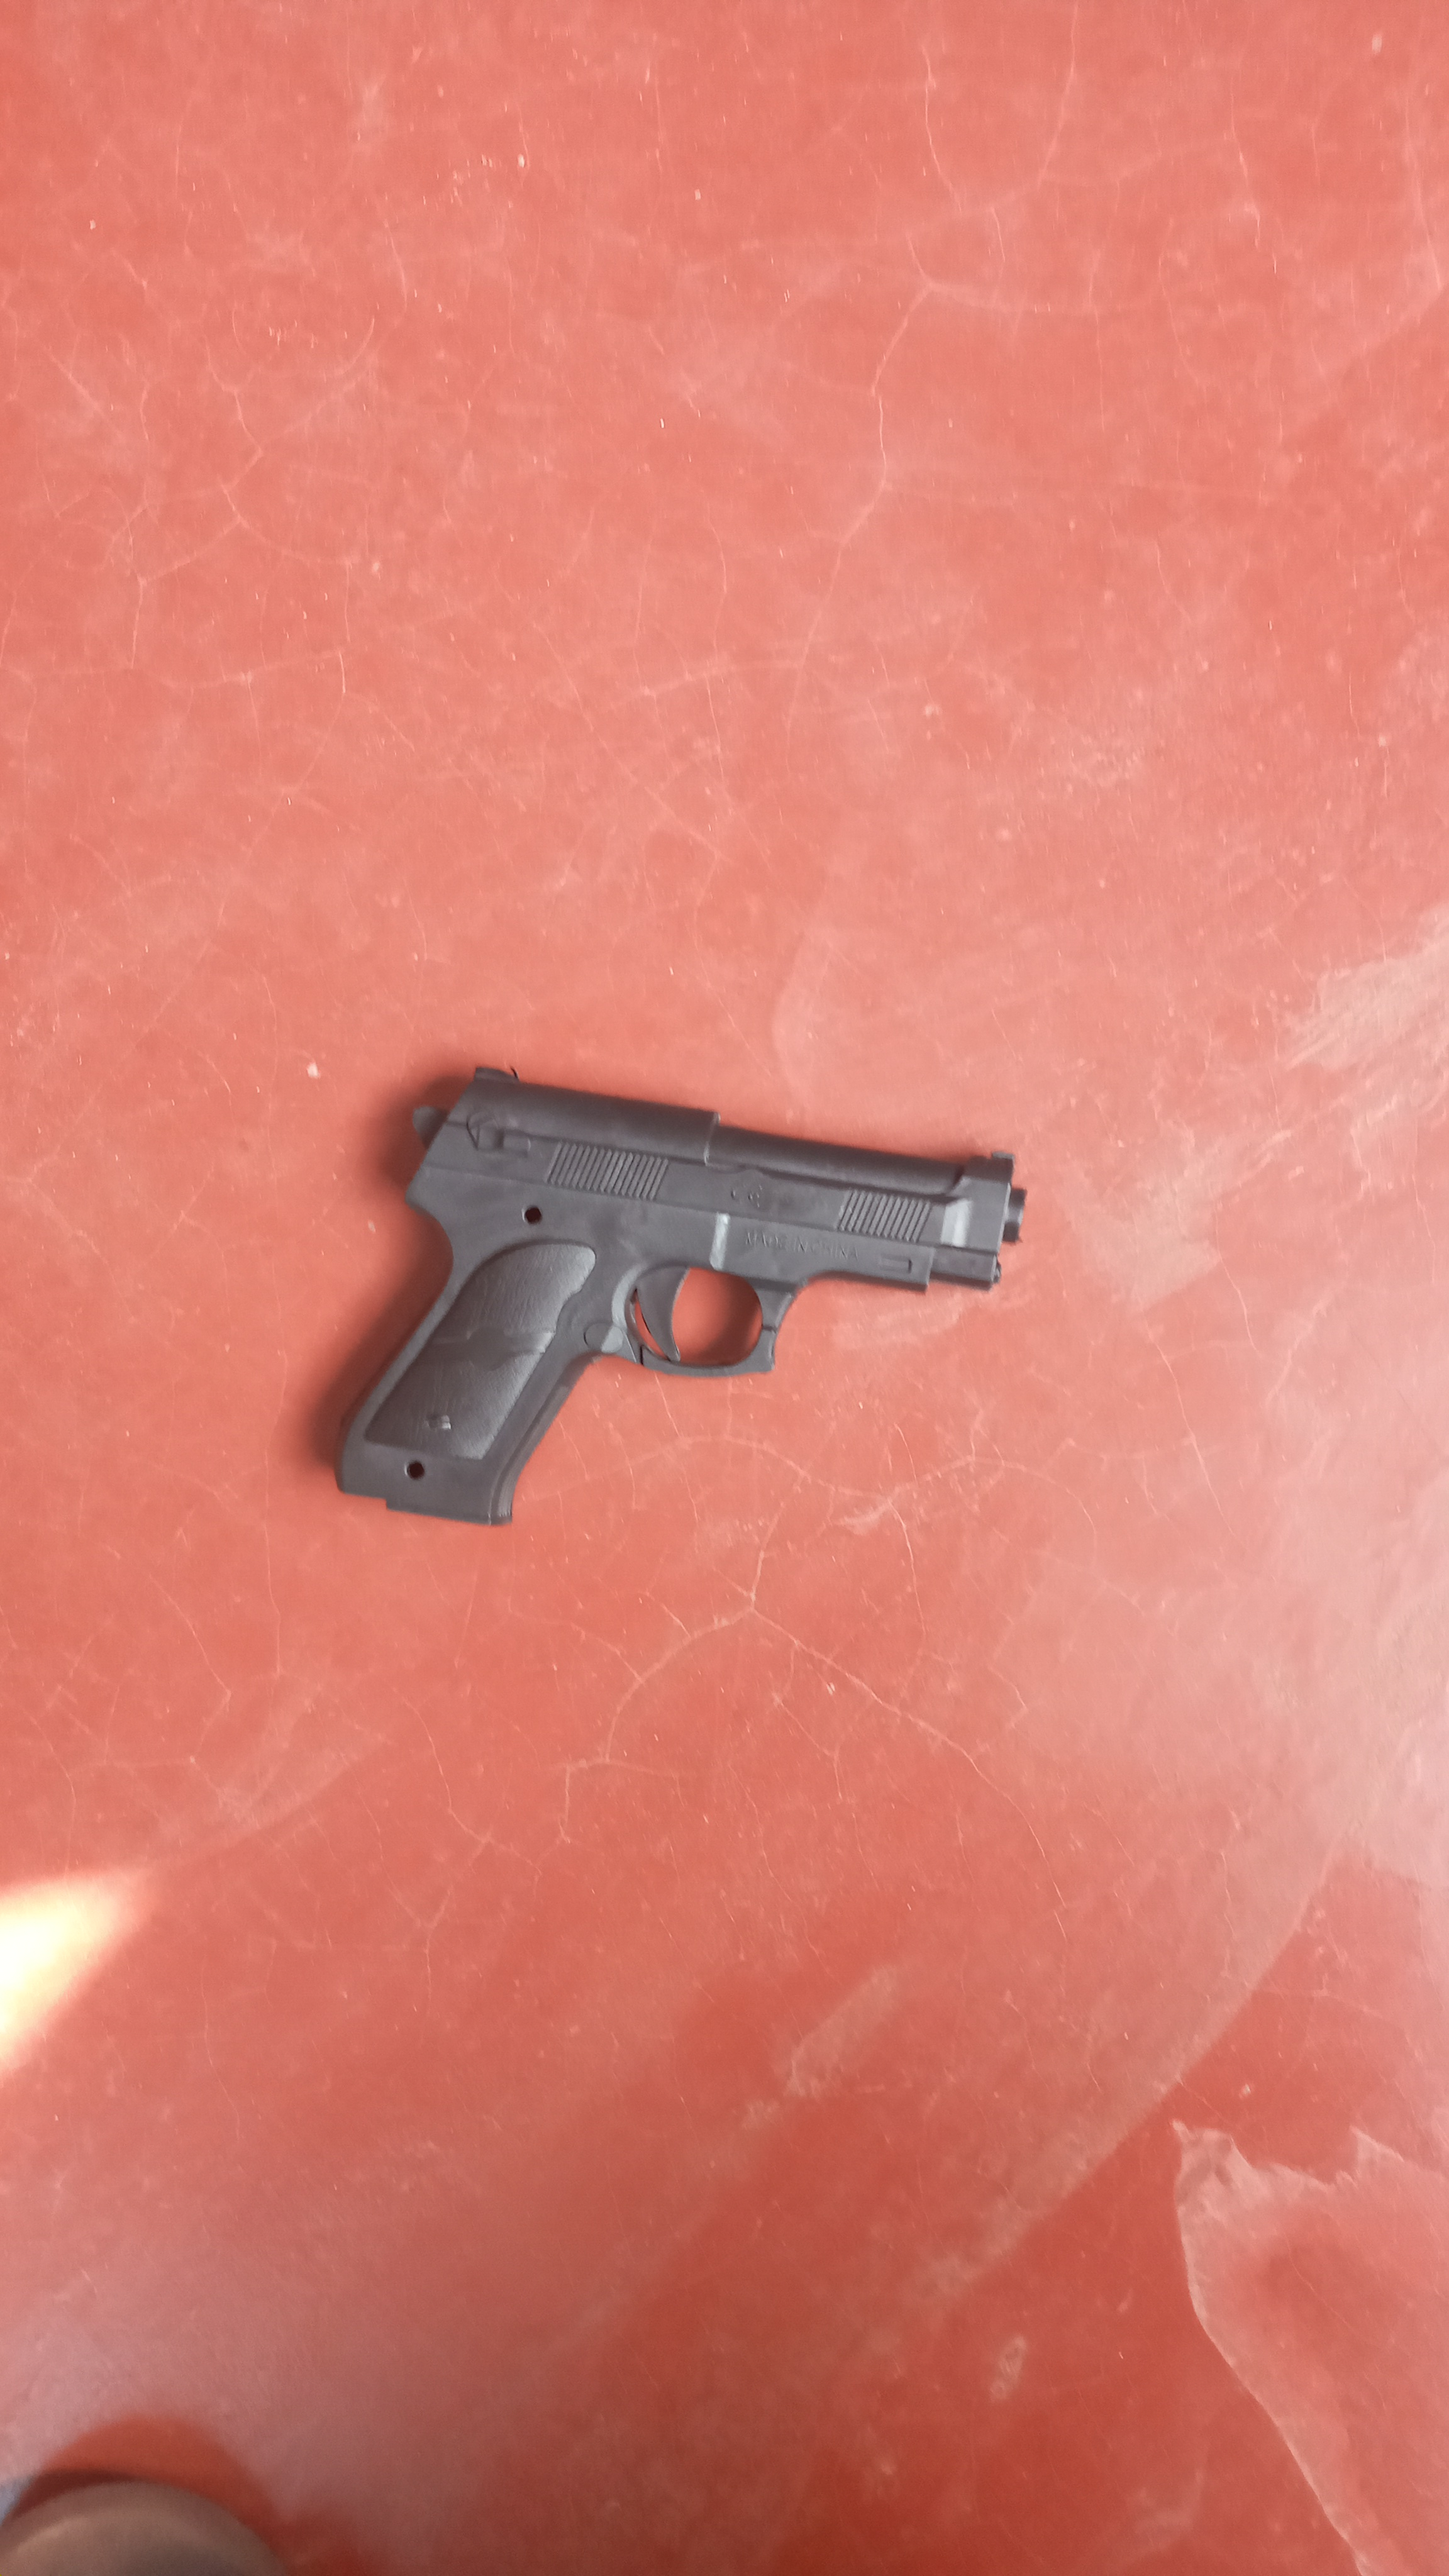Arma: (384, 1083, 1024, 1371)
